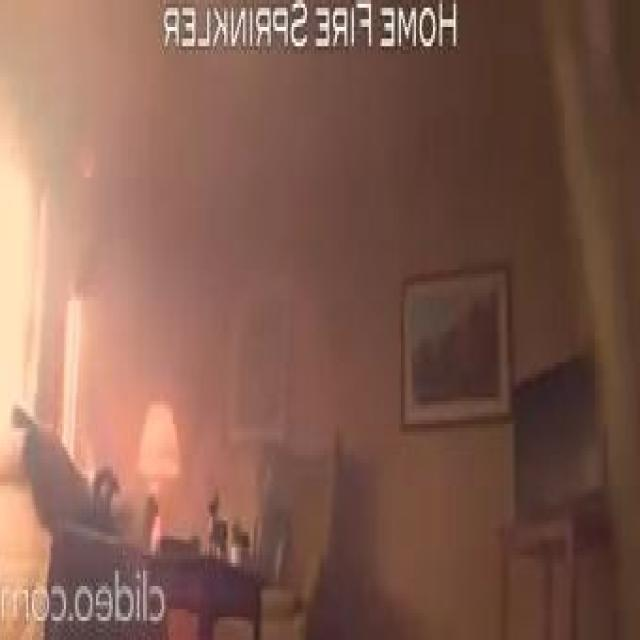smoke: (149, 512, 162, 552)
